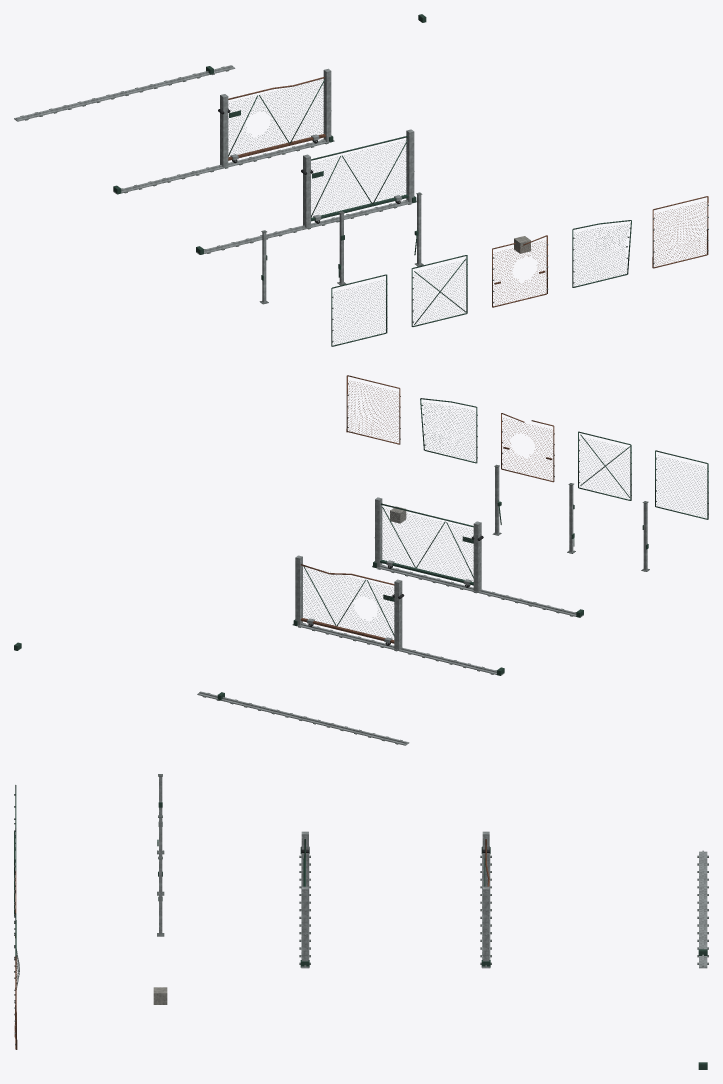
File: PROJECT_Z_Fence_and_Gate_Kit.glb
3 renders of one model, top to bottom at view 1: azimuth 30°, elevation 25°; view 2: azimuth 150°, elevation 25°; view 3: azimuth 270°, elevation 25°, orthographic. The views are drawn at different scales.
Visible parts, largest first — view 1: GATE_Sliding_Damaged_3p6m__GuidePosts, GATE_Sliding_3p6m__LeafWireMesh, GATE_Sliding_3p6m__GuidePosts, GATE_Sliding_Damaged_3p6m__LeafWireMesh, GATE_Track_Spare_7p58m__Track, GATE_Sliding_Damaged_3p6m__StaticTrack, GATE_Sliding_3p6m__StaticTrack, CHAINLINK_Damaged_Bent_2m__RealWovenChainLinks, CHAINLINK_Damaged_Sagging_2m__RealWovenChainLinks, CHAINLINK_Standard_2m__RealWovenChainLinks, CHAINLINK_Reinforced_2m__RealWovenChainLinks, GATE_Sliding_Damaged_3p6m__LeafFrame (+2 smaller); view 2: GATE_Sliding_3p6m__LeafWireMesh, GATE_Sliding_Damaged_3p6m__GuidePosts, GATE_Sliding_3p6m__GuidePosts, GATE_Sliding_Damaged_3p6m__LeafWireMesh, GATE_Track_Spare_7p58m__Track, GATE_Sliding_3p6m__StaticTrack, GATE_Sliding_Damaged_3p6m__StaticTrack, CHAINLINK_Damaged_Bent_2m__RealWovenChainLinks, CHAINLINK_Standard_2m__RealWovenChainLinks, CHAINLINK_Reinforced_2m__RealWovenChainLinks, CHAINLINK_Damaged_Sagging_2m__RealWovenChainLinks; view 3: GATE_Track_Spare_7p58m__Track, GATE_Sliding_Damaged_3p6m__GuidePosts, GATE_Sliding_3p6m__GuidePosts.
Boxes of the visible parts, x1,y1,x2,y2 form: GATE_Sliding_Damaged_3p6m__GuidePosts: (220, 68, 331, 167); GATE_Sliding_3p6m__LeafWireMesh: (311, 140, 407, 215); GATE_Sliding_3p6m__GuidePosts: (303, 129, 414, 227); GATE_Sliding_Damaged_3p6m__LeafWireMesh: (228, 80, 324, 156); GATE_Track_Spare_7p58m__Track: (14, 65, 235, 121); GATE_Sliding_Damaged_3p6m__StaticTrack: (113, 139, 334, 194); GATE_Sliding_3p6m__StaticTrack: (196, 200, 416, 254); CHAINLINK_Damaged_Bent_2m__RealWovenChainLinks: (573, 224, 629, 286); CHAINLINK_Damaged_Sagging_2m__RealWovenChainLinks: (654, 201, 706, 265); CHAINLINK_Standard_2m__RealWovenChainLinks: (332, 280, 385, 344); CHAINLINK_Reinforced_2m__RealWovenChainLinks: (413, 260, 465, 325); GATE_Sliding_Damaged_3p6m__LeafFrame: (228, 77, 325, 160); GATE_Sliding_3p6m__LeafWireMesh: (381, 507, 473, 580); GATE_Sliding_Damaged_3p6m__GuidePosts: (295, 555, 402, 649); GATE_Sliding_3p6m__GuidePosts: (375, 497, 481, 591); GATE_Sliding_Damaged_3p6m__LeafWireMesh: (302, 567, 393, 638); GATE_Track_Spare_7p58m__Track: (197, 691, 409, 745); GATE_Sliding_3p6m__StaticTrack: (372, 565, 583, 617); GATE_Sliding_Damaged_3p6m__StaticTrack: (292, 623, 504, 675); CHAINLINK_Damaged_Bent_2m__RealWovenChainLinks: (422, 402, 475, 461); CHAINLINK_Standard_2m__RealWovenChainLinks: (656, 455, 707, 516); CHAINLINK_Reinforced_2m__RealWovenChainLinks: (579, 438, 630, 499); CHAINLINK_Damaged_Sagging_2m__RealWovenChainLinks: (348, 381, 398, 443); GATE_Track_Spare_7p58m__Track: (699, 850, 707, 968); GATE_Sliding_Damaged_3p6m__GuidePosts: (482, 831, 489, 961); GATE_Sliding_3p6m__GuidePosts: (301, 831, 308, 961).
Bounding box in the file's own units: 14.34 × 2.73 × 19.21.
6 materials, 6 textured.
